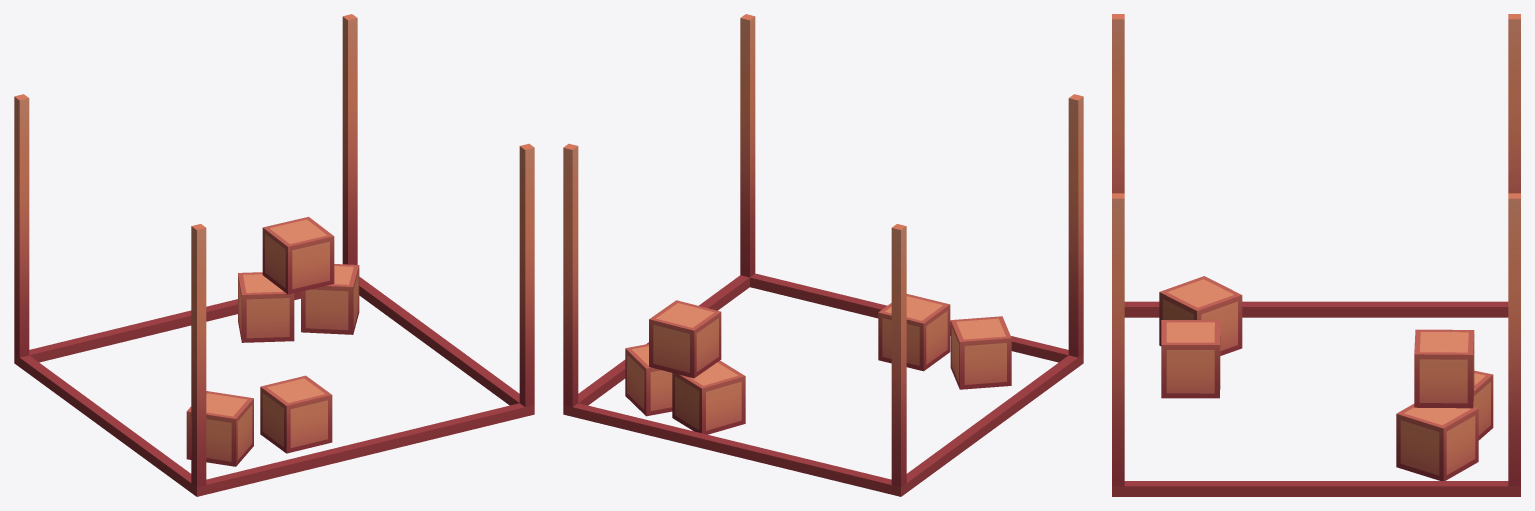
Rendered from Mdl_ConstructionArea.fbx.
3 renders of one model, left to right at view 1: azimuth 30°, elevation 25°; view 2: azimuth 150°, elevation 25°; view 3: azimuth 270°, elevation 25°, orthographic. The views are drawn at different scales.
Parts seen in each view (by area): view 1: ConstructionArea; view 2: ConstructionArea; view 3: ConstructionArea.
Boxes of the visible parts, left/top/right/bottom form: ConstructionArea: left=14, top=14, right=534, bottom=496; ConstructionArea: left=563, top=14, right=1083, bottom=496; ConstructionArea: left=1112, top=14, right=1520, bottom=496.
Size of the model in its own units: 666 by 502 by 623.
